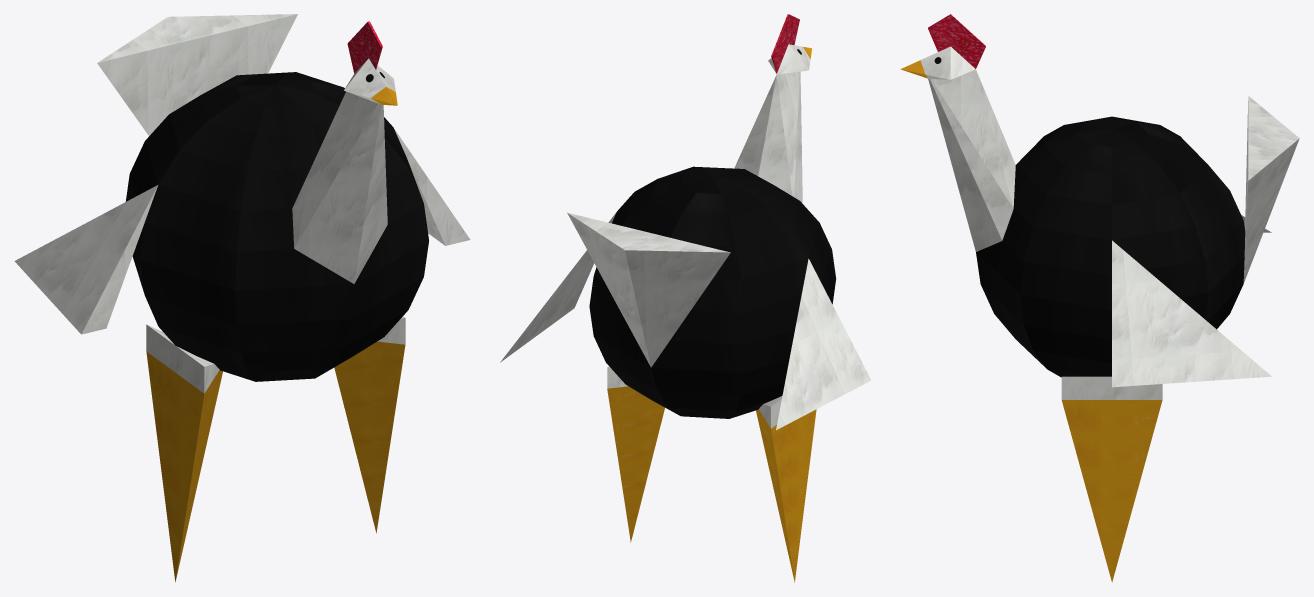
File: kura.obj
3 views of the same model, side by side, from view 1: azimuth 30°, elevation 25°; view 2: azimuth 150°, elevation 25°; view 3: azimuth 270°, elevation 25° (orthographic). The views are drawn at different scales.
Visible parts, largest first — view 1: kura_Main-Material4, kura_Main-Material1, kura_Main-Material3, kura_Main-Material2; view 2: kura_Main-Material4, kura_Main-Material1, kura_Main-Material3, kura_Main-Material2; view 3: kura_Main-Material4, kura_Main-Material1, kura_Main-Material3, kura_Main-Material2.
Part boxes in pixels (x1,y1,x2,y2): kura_Main-Material4: (125, 72, 428, 381); kura_Main-Material1: (14, 14, 470, 393); kura_Main-Material3: (146, 87, 405, 582); kura_Main-Material2: (347, 21, 382, 73); kura_Main-Material4: (589, 49, 836, 418); kura_Main-Material1: (500, 44, 871, 430); kura_Main-Material3: (607, 47, 816, 582); kura_Main-Material2: (771, 14, 799, 73); kura_Main-Material4: (934, 57, 1245, 377); kura_Main-Material1: (920, 46, 1299, 399); kura_Main-Material3: (900, 60, 1162, 582); kura_Main-Material2: (928, 14, 985, 68).
Bounding box in the file's own units: 0.3872 × 0.575 × 0.3959.
5 materials, 4 textured.
